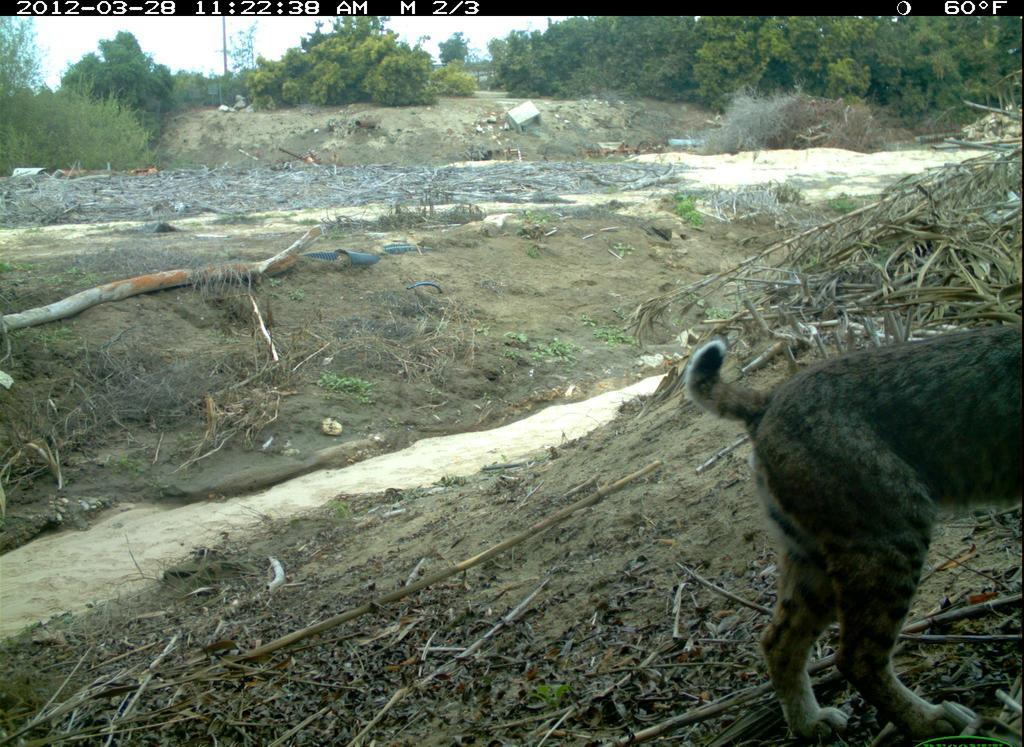bobcat: (679, 305, 1023, 747)
